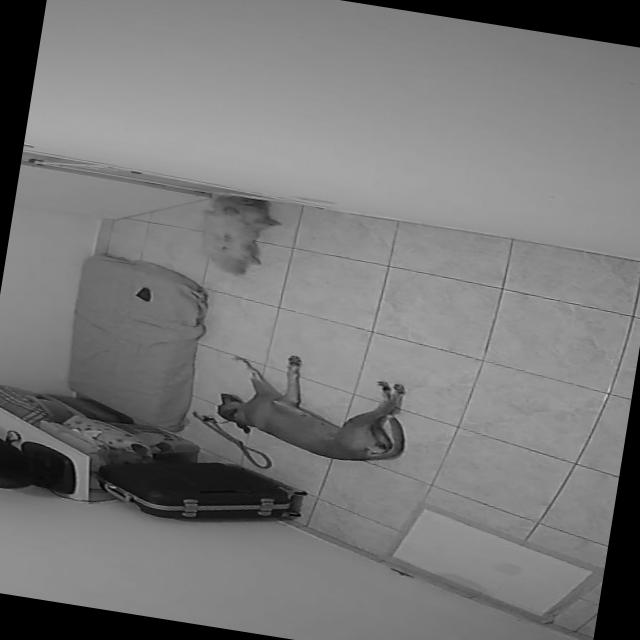laying down: (200, 340, 422, 474), (190, 186, 290, 285)
